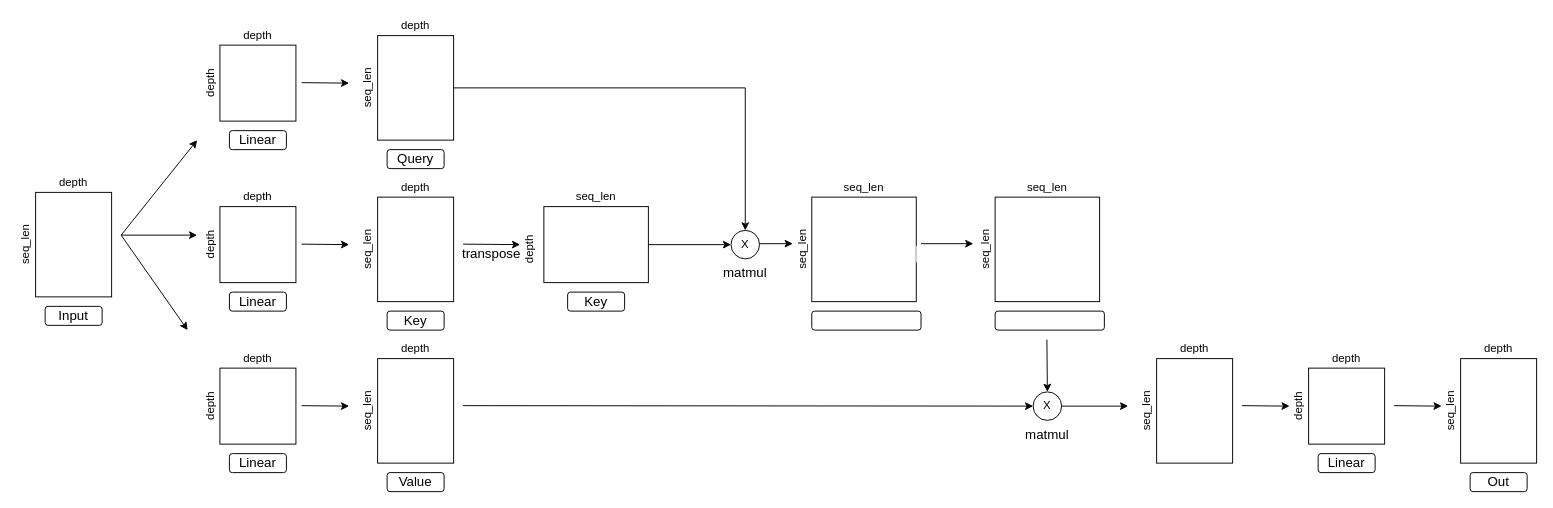
Some shapes in this 1553 by 508 pixel diagram are drawn without their labels. The shapes that lost their labels are listed below. From the top down, each one's centre as x and y in pixels, then its label:
At (944,253): "Softmax".
At (866,320): "Attention(logit)".
At (1049,320): "Attention(prob)".
